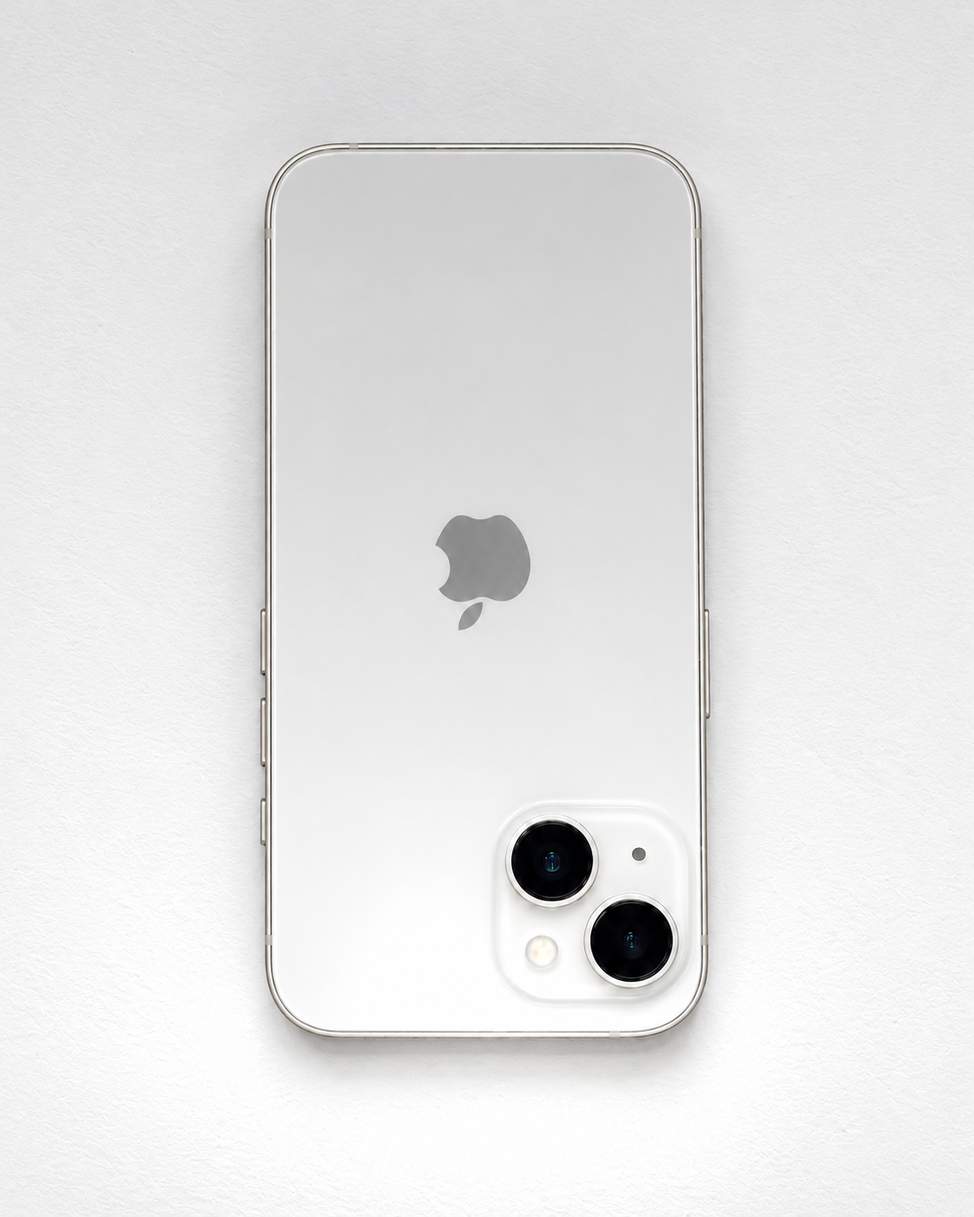iphone_14_white: (201, 106, 785, 1125), (500, 812, 697, 1015)
